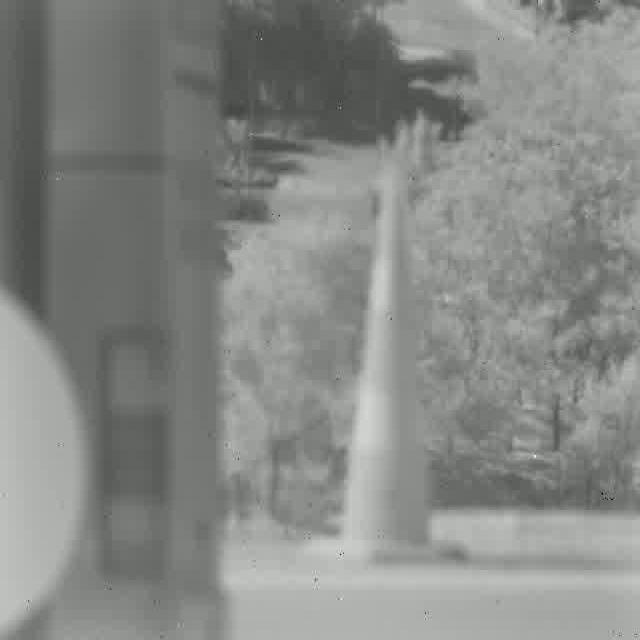Bus: (0, 0, 223, 640)
Car: (223, 176, 270, 222)
